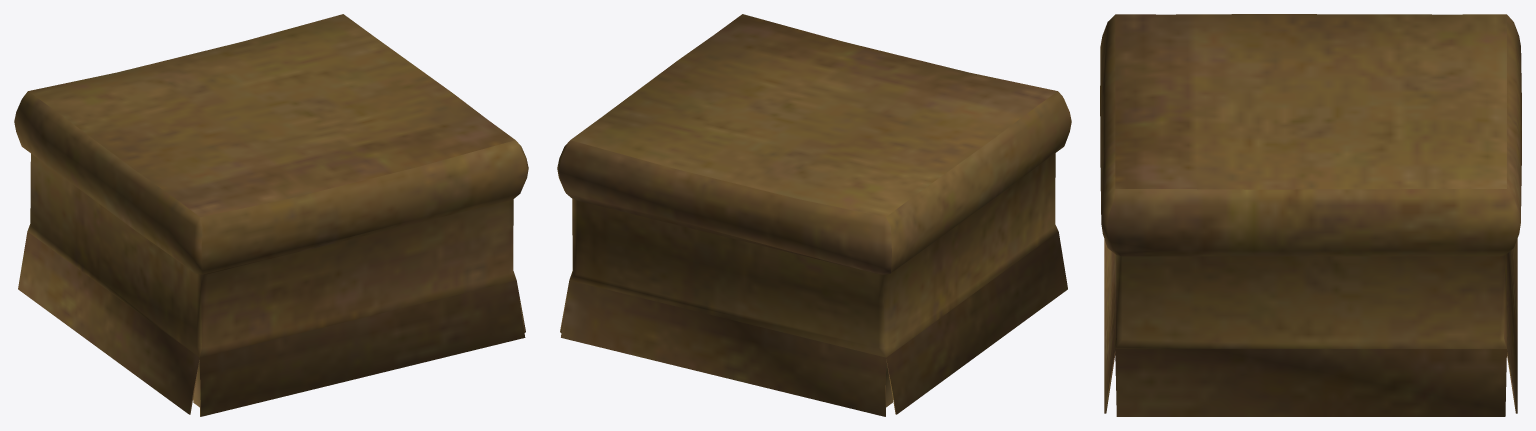
The model's file is ottoman.obj.
The picture shows the model from 3 angles, left to right: view 1: azimuth 30°, elevation 25°; view 2: azimuth 150°, elevation 25°; view 3: azimuth 270°, elevation 25°; orthographic projection. The views are drawn at different scales.
Parts seen in each view (by area): view 1: Model001_4_top_1_0_0, Model001_4_base_1_0_0; view 2: Model001_4_top_1_0_0, Model001_4_base_1_0_0; view 3: Model001_4_top_1_0_0, Model001_4_base_1_0_0.
Boxes of the visible parts, x1=… form: Model001_4_top_1_0_0: x1=14, y1=14, x2=528, y2=274; Model001_4_base_1_0_0: x1=18, y1=153, x2=525, y2=416; Model001_4_top_1_0_0: x1=557, y1=14, x2=1071, y2=274; Model001_4_base_1_0_0: x1=560, y1=153, x2=1067, y2=416; Model001_4_top_1_0_0: x1=1100, y1=14, x2=1521, y2=256; Model001_4_base_1_0_0: x1=1104, y1=239, x2=1517, y2=416.
Size of the model in its own units: 0.7881 by 0.4563 by 0.7514.
